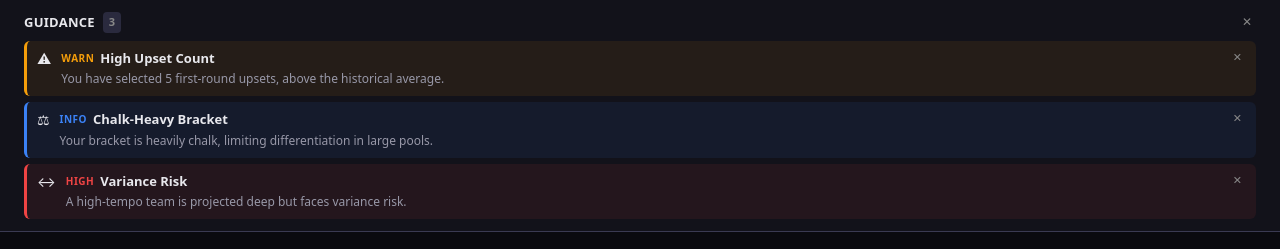
GuidancePanel › dismiss functionality › hides a message when its dismiss button is clicked
Click the button named "Dismiss: High Upset Count": (1237, 56) x1=1229 y1=48 x2=1246 y2=64
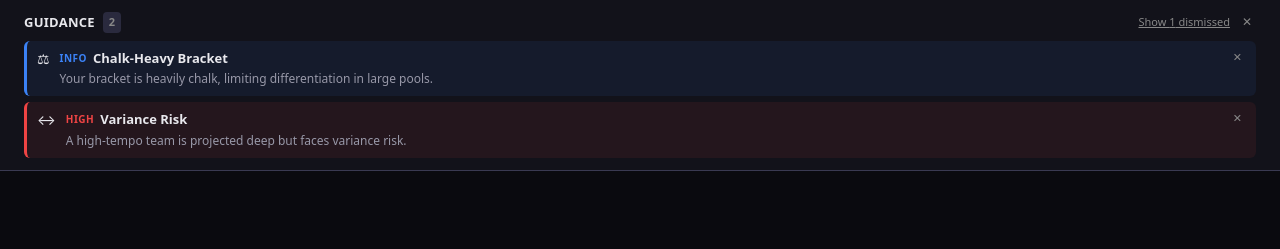
expect the text "Chalk-Heavy Bracket" is shown: met, box x1=93 y1=48 x2=228 y2=68
expect the text "High Upset Count" is gone: met
